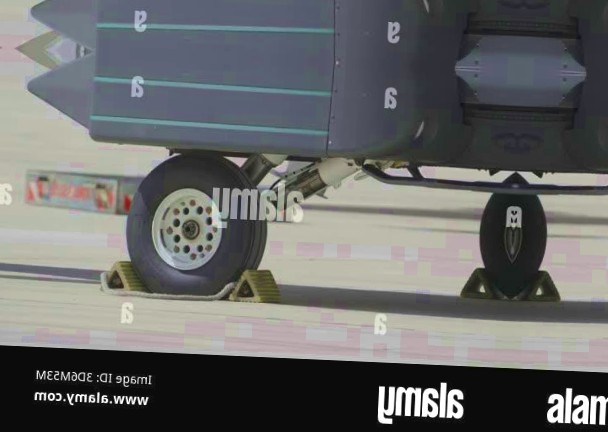chock: (98, 259, 152, 297), (229, 268, 283, 303), (514, 268, 564, 303), (459, 266, 509, 300)
wheel: (125, 149, 270, 296), (475, 187, 515, 296), (512, 188, 551, 298)
